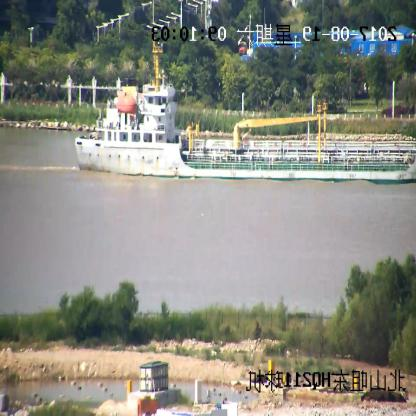Bulk Carrier: (74, 45, 415, 179)
